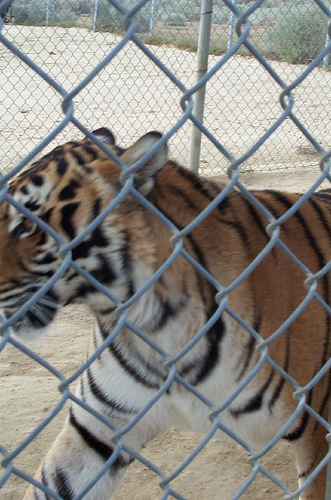Tigre: (5, 136, 307, 394)
